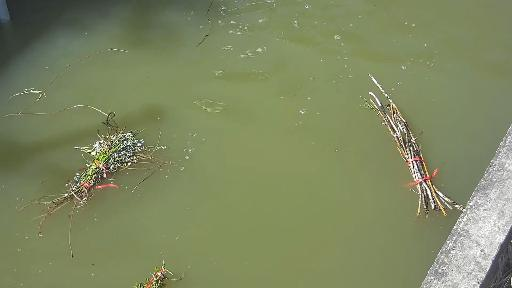twig: (32, 33, 162, 235), (362, 67, 450, 215), (123, 249, 175, 288), (183, 0, 212, 68)
